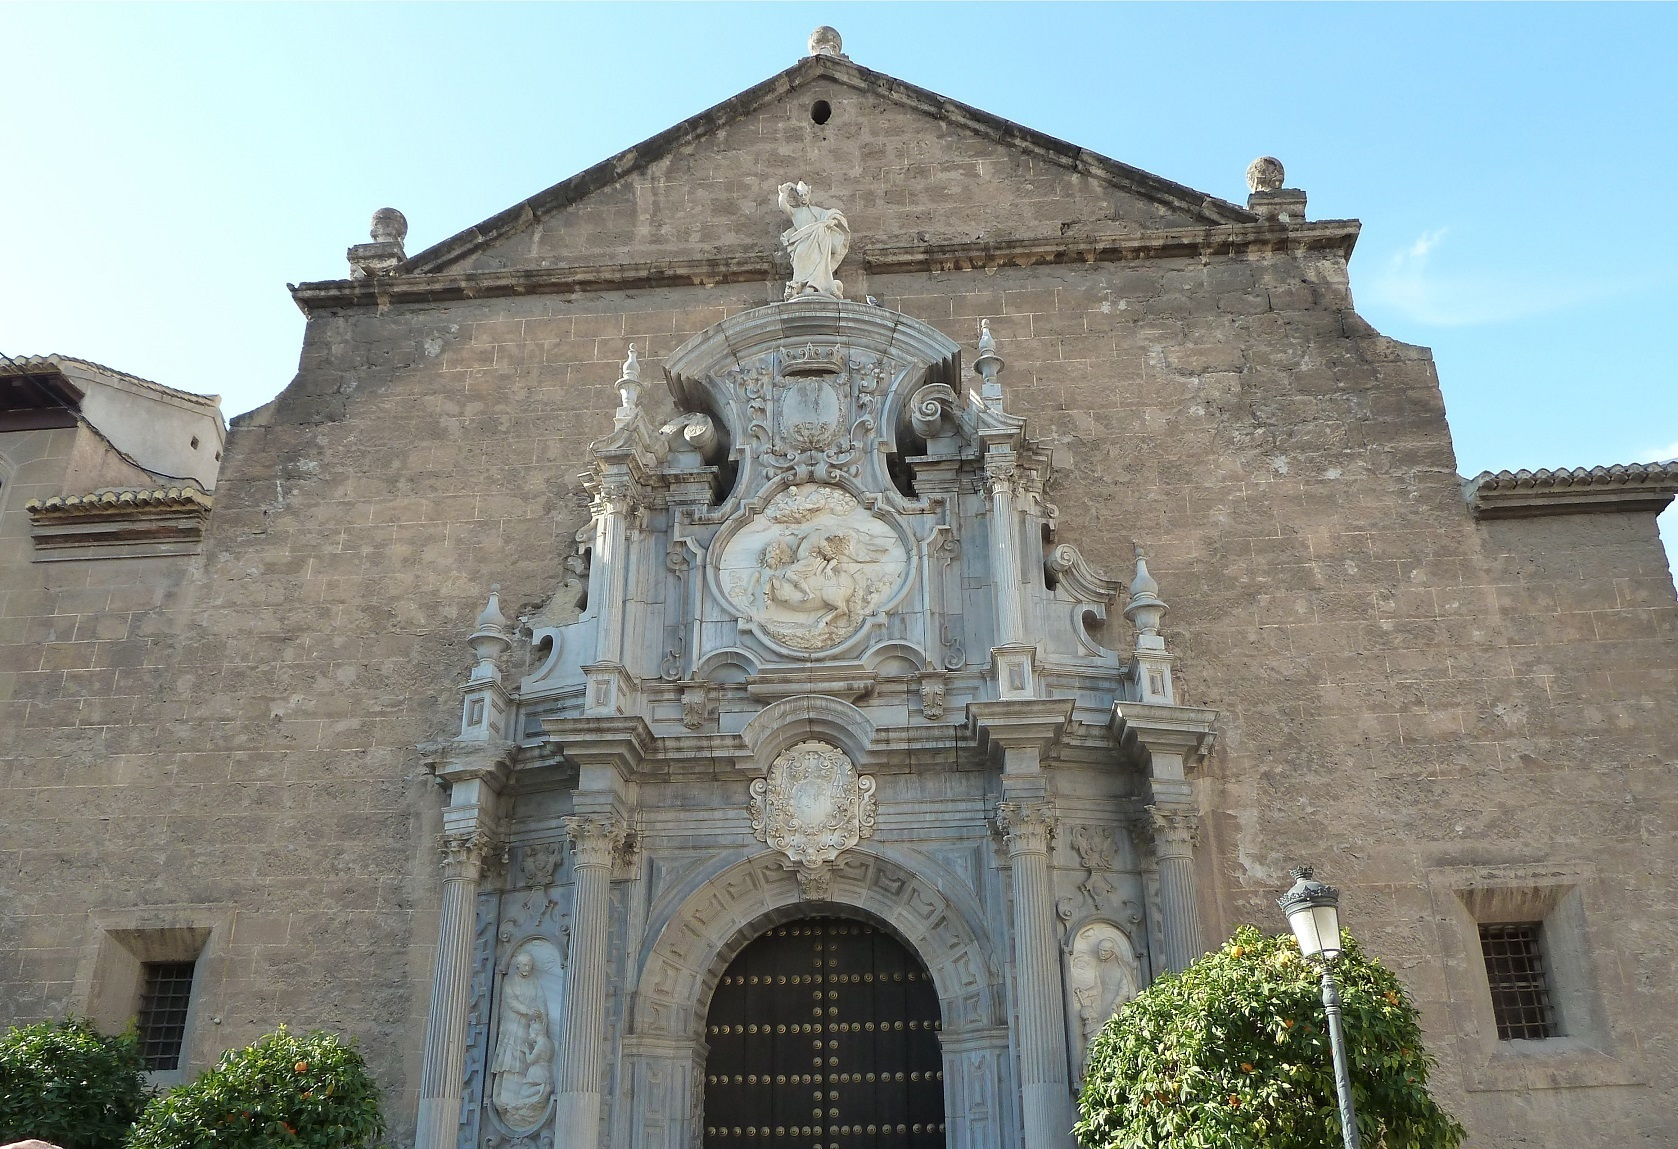arco-medio-punto: (675, 886, 959, 1055)
